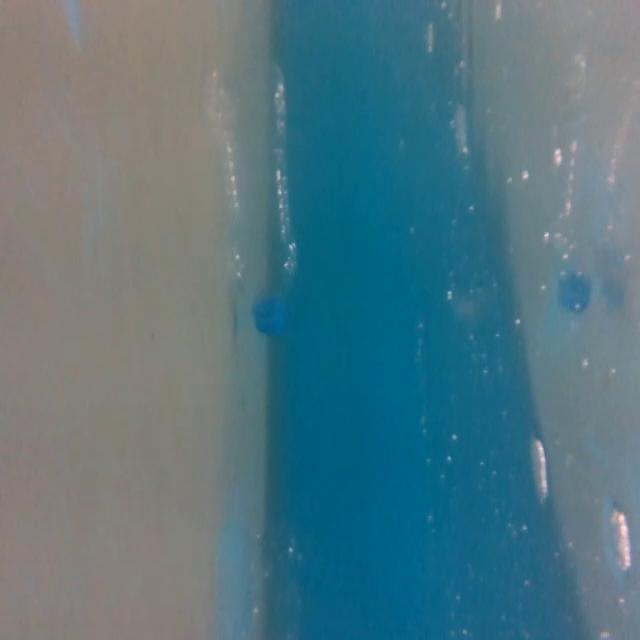plastic bottle: (200, 52, 305, 344)
